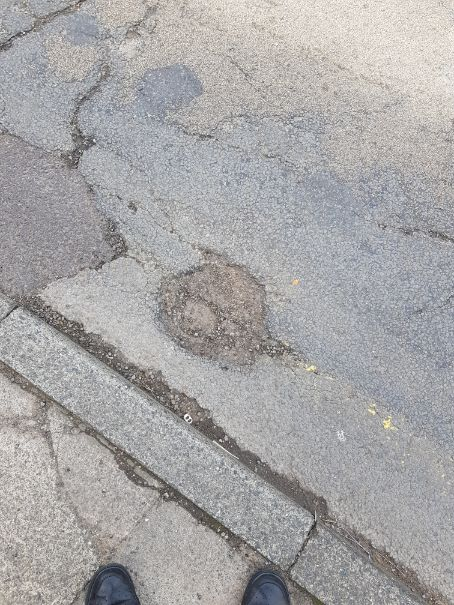pothole: (152, 244, 298, 366)
